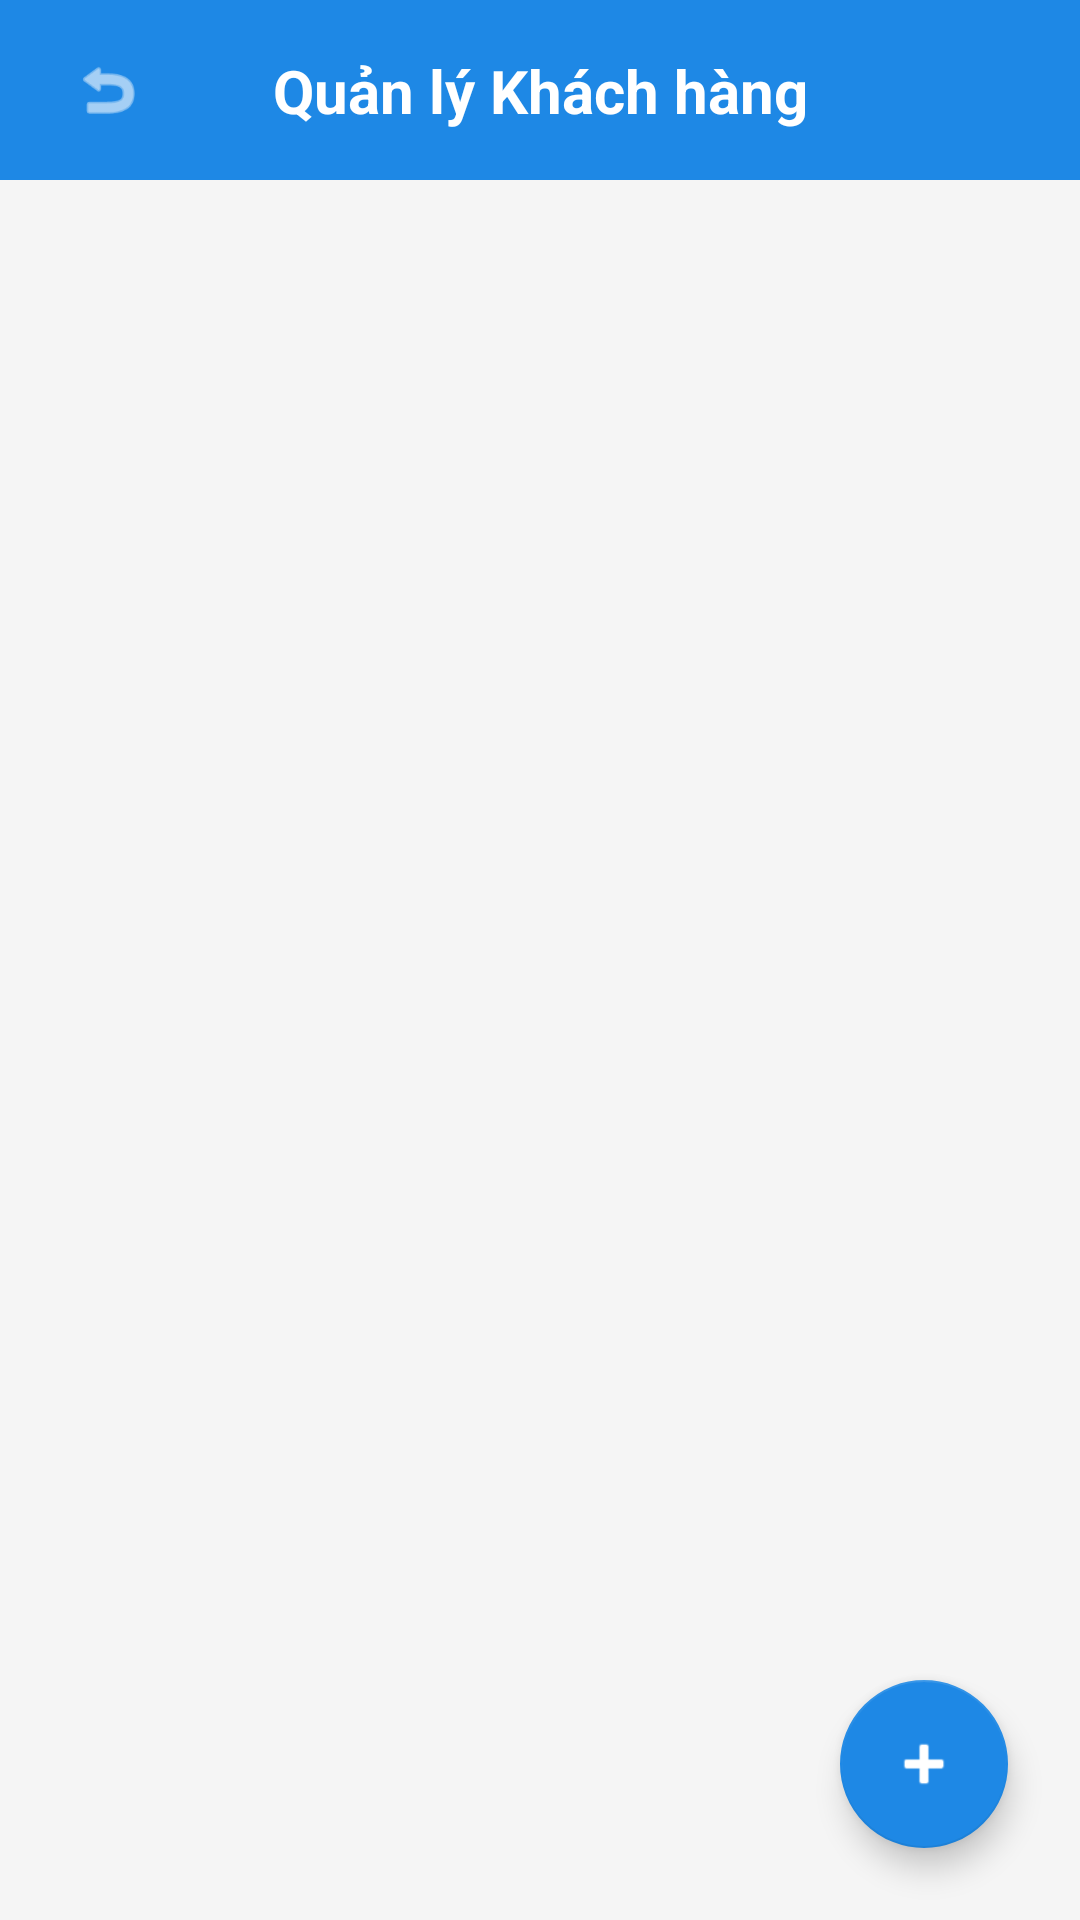

Named icons in this screenshot (1080x1920) and their bounding boxes, (x1,y1,x2,y2):
add: (840,1680,1008,1848)
revert: (83,67,135,114)
